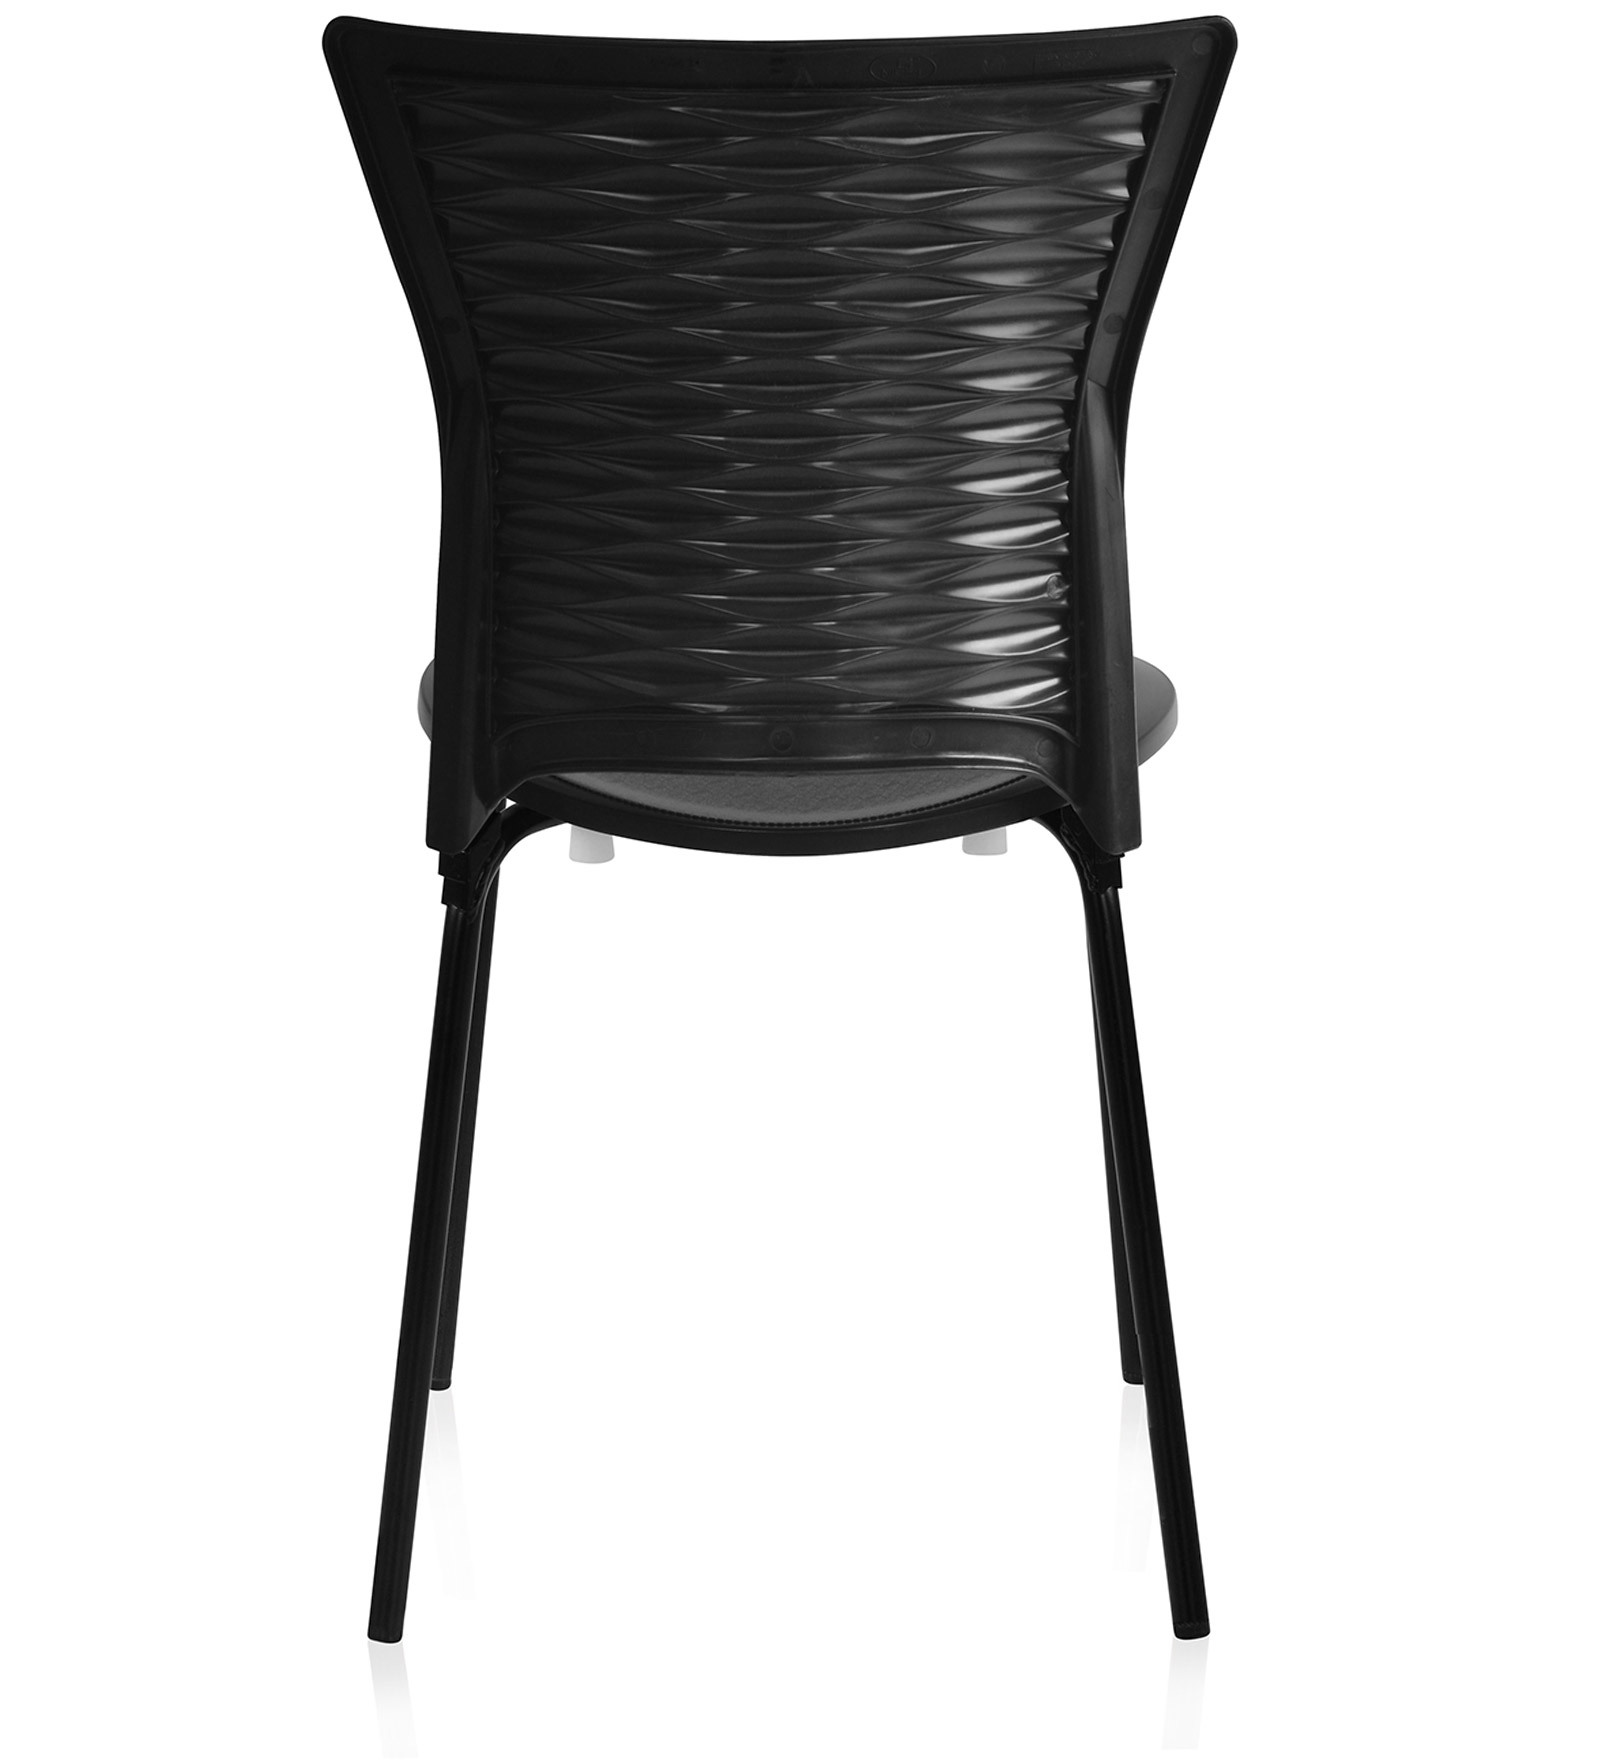Novella Series - 14 Chair (Set of 2) in Black Colour by Nilkamal: (308, 12, 1248, 1648)
